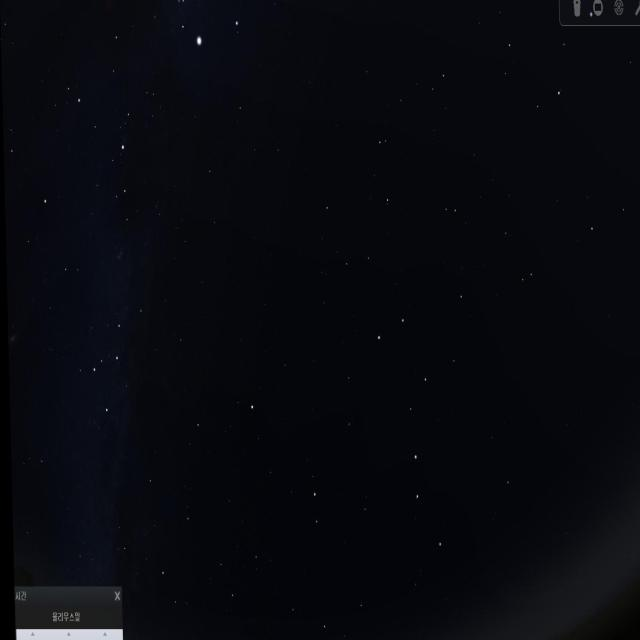cassiopeia: (85, 291, 156, 428)
ursa_major: (371, 306, 450, 559)
